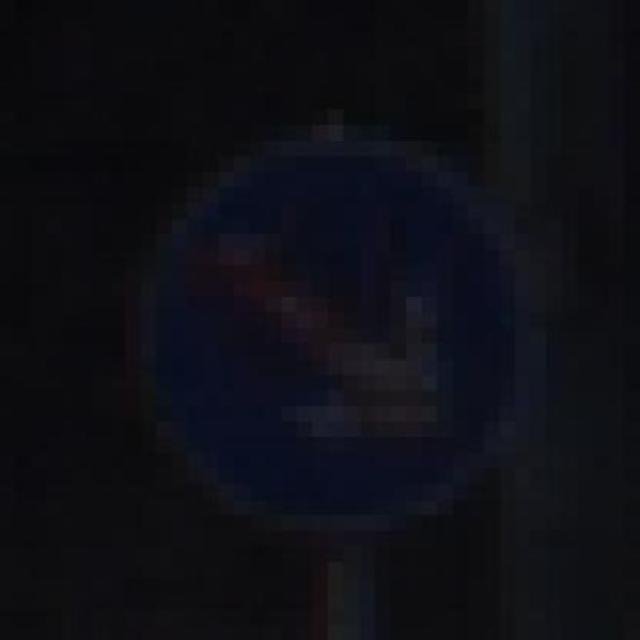Keep-Right: (125, 93, 546, 562)
